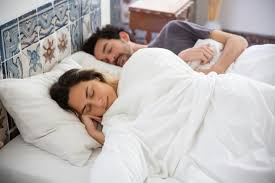bed-matress: (2, 44, 275, 183)
